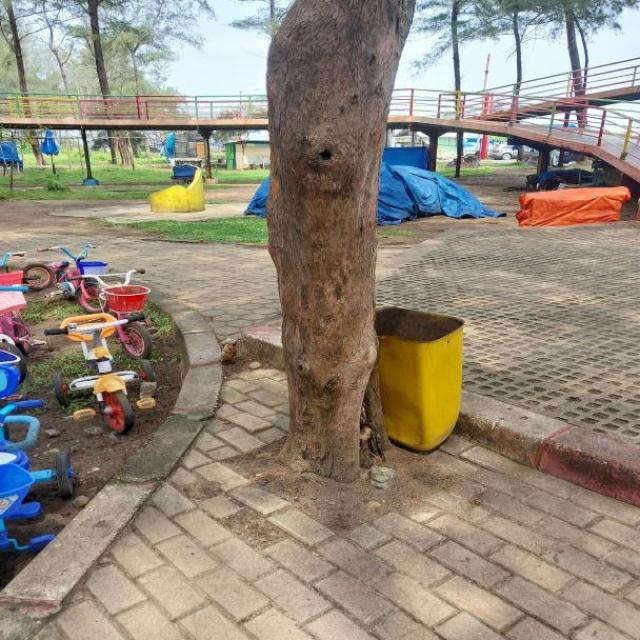dustbin ahead at: (262, 0, 401, 481), (378, 301, 474, 457)
